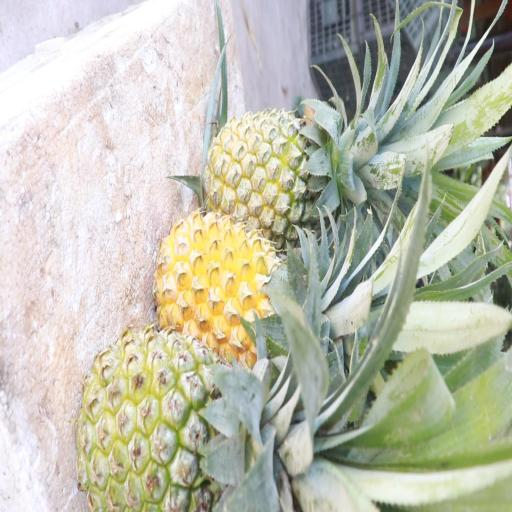------------------------------: (83, 327, 269, 512), (206, 102, 340, 244)
Pineapple - v8 v1: (154, 210, 296, 362)
